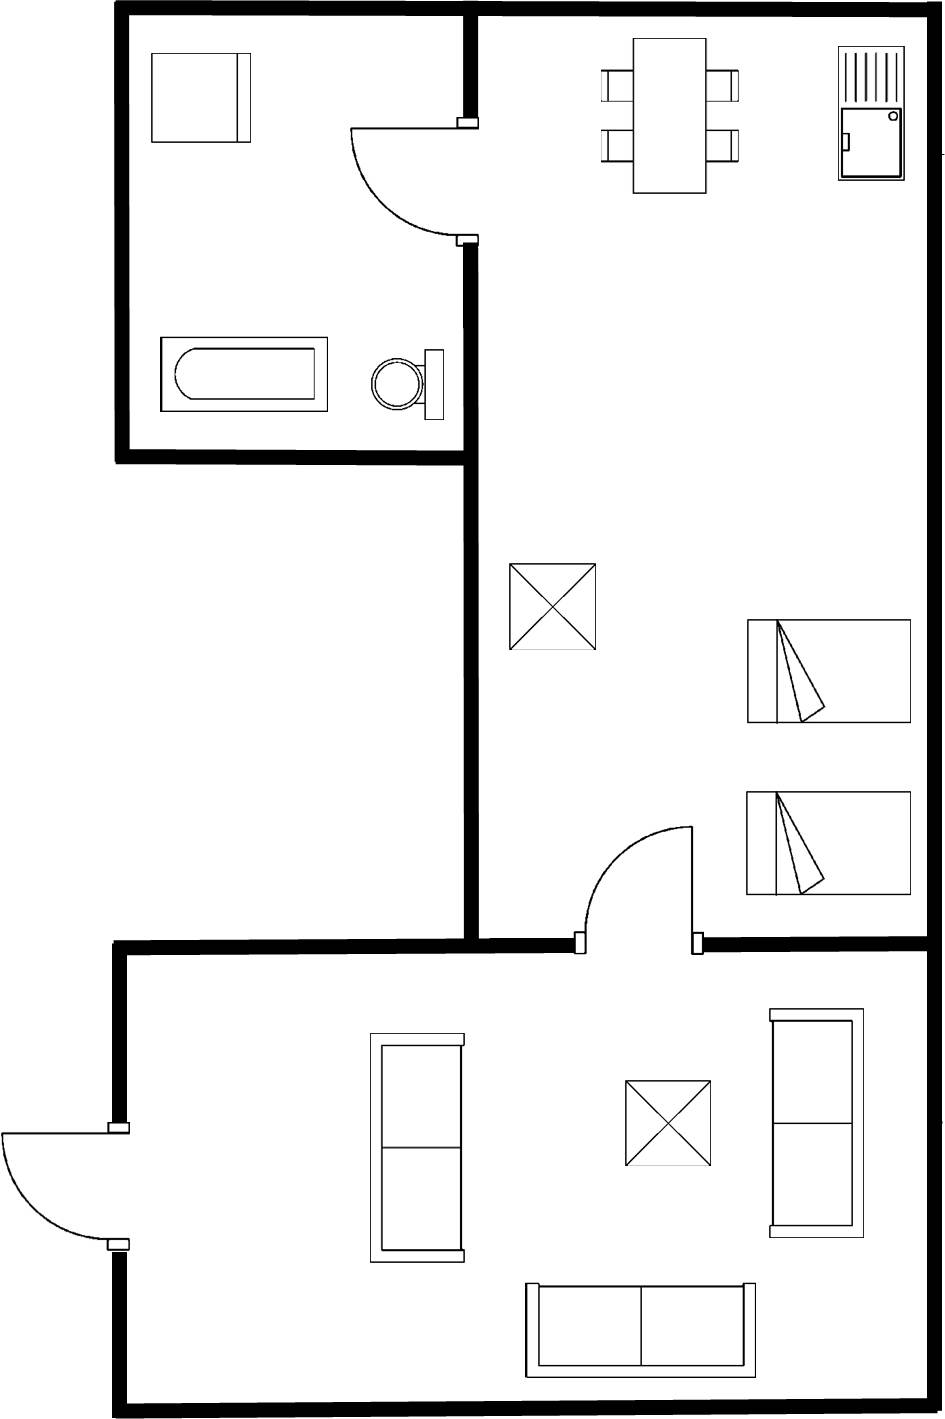bed: (737, 784, 919, 905), (737, 611, 917, 731)
coffee_table: (501, 556, 605, 657), (615, 1074, 717, 1171)
dining_table: (590, 28, 748, 205)
large_sink: (365, 342, 454, 428)
large_sofa: (516, 1274, 767, 1388), (762, 999, 876, 1246), (362, 1025, 473, 1270)
sink: (827, 38, 912, 188)
small_sofa: (142, 46, 262, 150)
tub: (152, 328, 334, 417)
